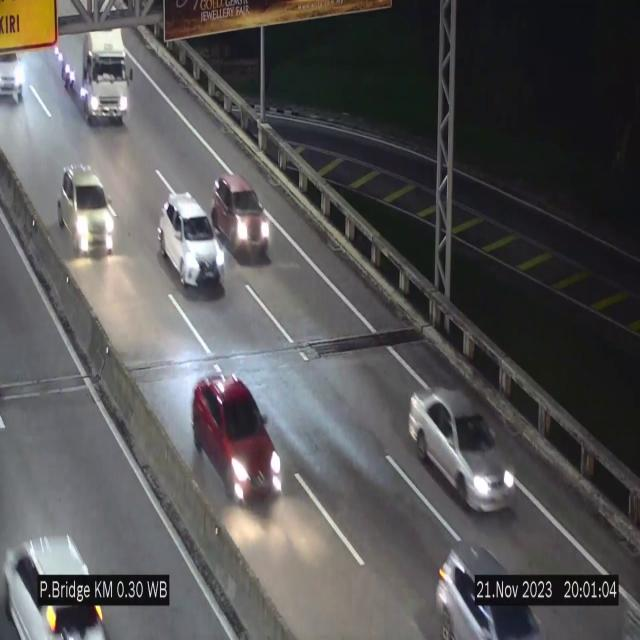Car: (0, 512, 118, 640), (408, 388, 518, 512), (190, 374, 285, 512), (427, 542, 541, 640), (54, 158, 116, 268), (158, 192, 225, 289), (210, 172, 270, 262), (0, 36, 42, 116)
Truck: (58, 31, 131, 125)
